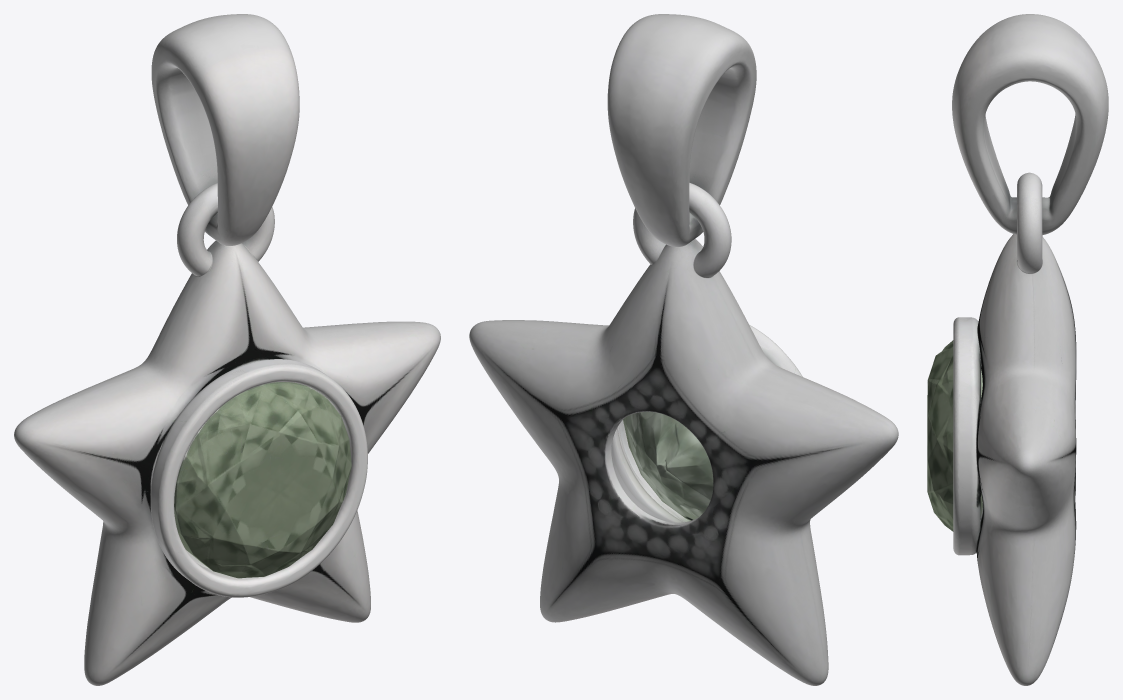
Rendered from estrela.glb.
The picture shows the model from 3 angles, left to right: view 1: azimuth 30°, elevation 25°; view 2: azimuth 150°, elevation 25°; view 3: azimuth 270°, elevation 25°; orthographic projection. The views are drawn at different scales.
Size of the model in its own units: 1.34 by 1.9 by 0.5235.
Materials: 1 (1 with a texture image).
